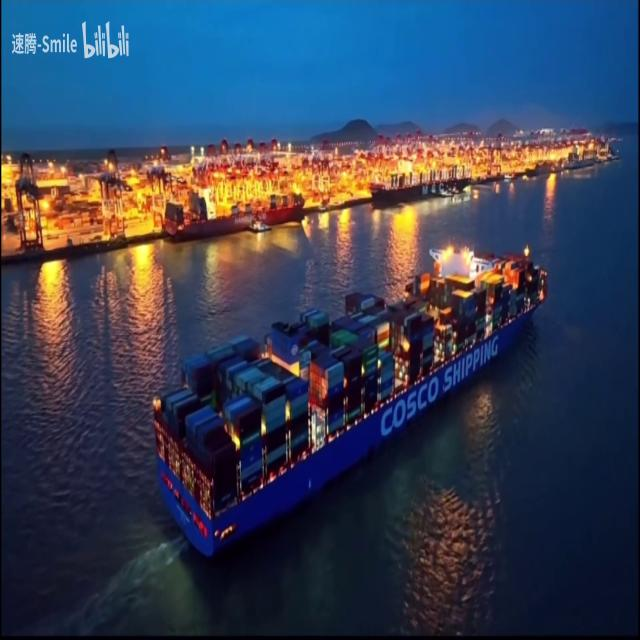cargoship: (147, 246, 549, 556)
